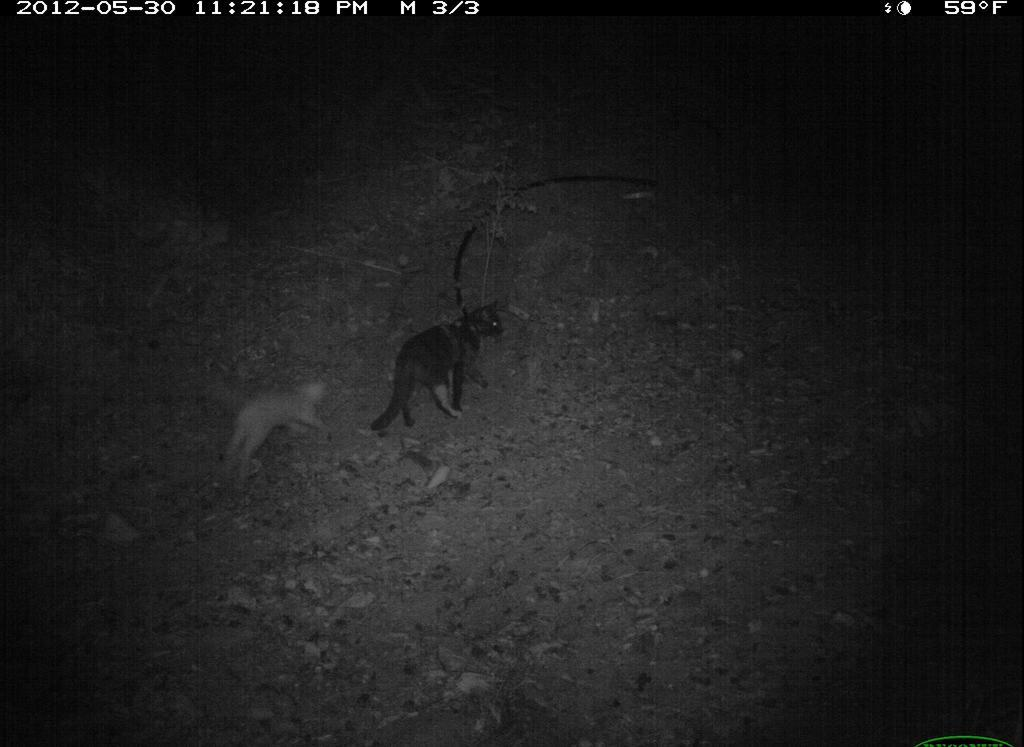cat: (369, 285, 520, 446), (205, 363, 340, 477)
